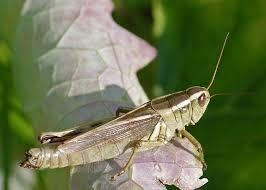insect: (17, 28, 258, 183)
